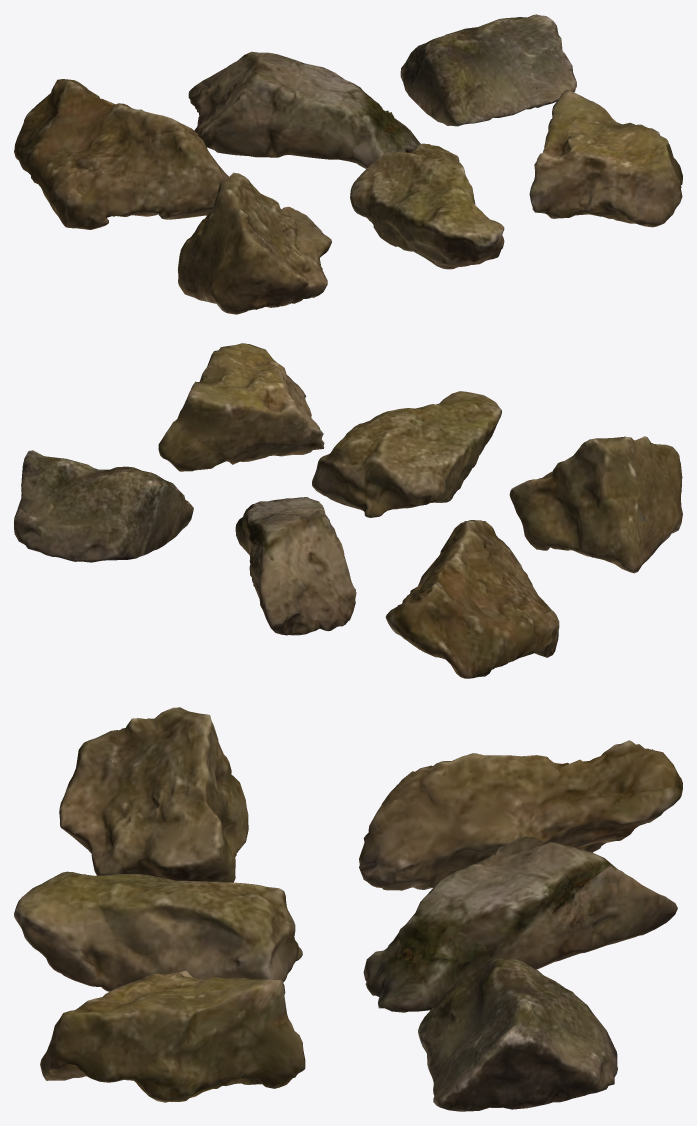
The model's file is rock_moss_set_01.glb.
The picture shows the model from 3 angles, top to bottom: view 1: azimuth 30°, elevation 25°; view 2: azimuth 150°, elevation 25°; view 3: azimuth 270°, elevation 25°; orthographic projection. The views are drawn at different scales.
Parts seen in each view (by area): view 1: rock_moss_set_01_rock01, rock_moss_set_01_rock02, rock_moss_set_01_rock06, rock_moss_set_01_rock04, rock_moss_set_01_rock03, rock_moss_set_01_rock05; view 2: rock_moss_set_01_rock04, rock_moss_set_01_rock01, rock_moss_set_01_rock05, rock_moss_set_01_rock03, rock_moss_set_01_rock06, rock_moss_set_01_rock02; view 3: rock_moss_set_01_rock01, rock_moss_set_01_rock02, rock_moss_set_01_rock05, rock_moss_set_01_rock04, rock_moss_set_01_rock06, rock_moss_set_01_rock03.
Boxes of the visible parts, x1,y1,x2,y2 form: rock_moss_set_01_rock01: [14, 79, 228, 229]; rock_moss_set_01_rock02: [188, 51, 420, 168]; rock_moss_set_01_rock06: [529, 89, 682, 227]; rock_moss_set_01_rock04: [178, 172, 331, 314]; rock_moss_set_01_rock03: [400, 14, 576, 126]; rock_moss_set_01_rock05: [350, 143, 504, 269]; rock_moss_set_01_rock04: [509, 436, 682, 573]; rock_moss_set_01_rock01: [385, 520, 559, 678]; rock_moss_set_01_rock05: [312, 391, 501, 517]; rock_moss_set_01_rock03: [14, 450, 193, 562]; rock_moss_set_01_rock06: [158, 343, 324, 471]; rock_moss_set_01_rock02: [235, 497, 356, 635]; rock_moss_set_01_rock01: [359, 740, 682, 890]; rock_moss_set_01_rock02: [363, 836, 677, 1012]; rock_moss_set_01_rock05: [14, 871, 302, 991]; rock_moss_set_01_rock04: [59, 707, 248, 882]; rock_moss_set_01_rock06: [40, 970, 305, 1102]; rock_moss_set_01_rock03: [418, 956, 617, 1111].
Size of the model in its own units: 8 by 1.77 by 6.94.
Materials: 1 (1 with a texture image).
